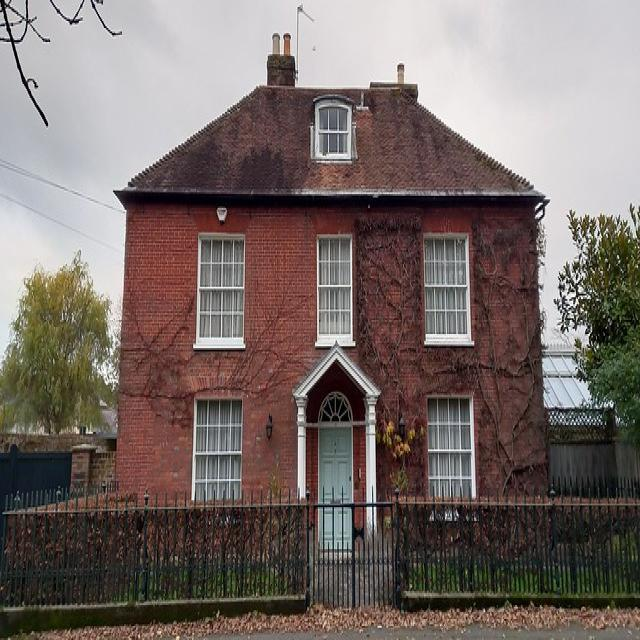building: (110, 53, 558, 573)
